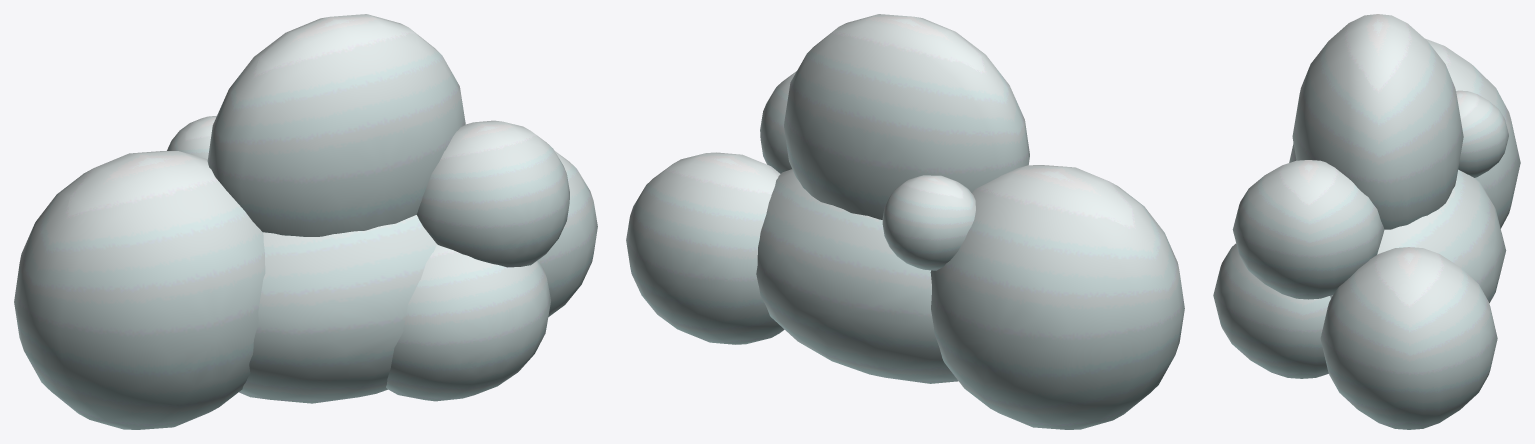
The model's file is Cloud.FBX.
3 renders of one model, left to right at view 1: azimuth 30°, elevation 25°; view 2: azimuth 150°, elevation 25°; view 3: azimuth 270°, elevation 25°, orthographic. The views are drawn at different scales.
Visible parts, largest first — view 1: Sphere010; view 2: Sphere010; view 3: Sphere010.
Part boxes in pixels (x1,y1,x2,y2): Sphere010: [14, 14, 597, 429]; Sphere010: [626, 14, 1184, 429]; Sphere010: [1213, 14, 1520, 429].
Bounding box in the file's own units: 61.09 × 38.27 × 32.57.
